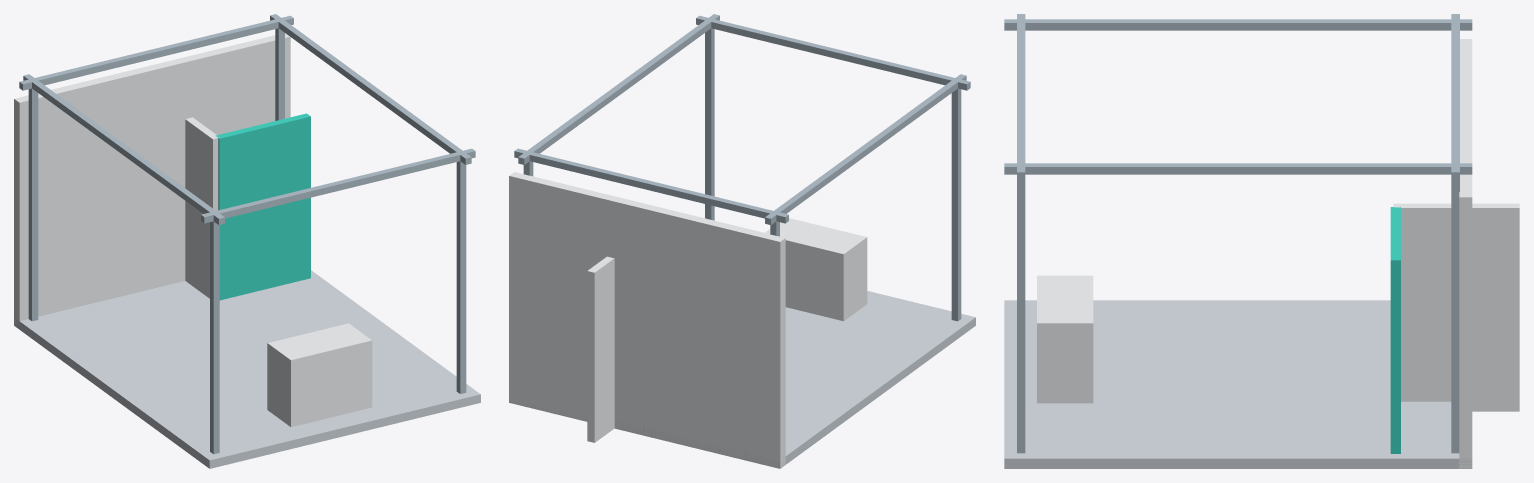
3 views of the same model, side by side, from view 1: azimuth 30°, elevation 25°; view 2: azimuth 150°, elevation 25°; view 3: azimuth 270°, elevation 25° (orthographic). The views are drawn at different scales.
Visible parts, largest first — view 1: Exhibition Booth Concept; view 2: Exhibition Booth Concept; view 3: Exhibition Booth Concept.
Boxes of the visible parts, x1,y1,x2,y2 form: Exhibition Booth Concept: [14, 14, 480, 468]; Exhibition Booth Concept: [509, 14, 975, 468]; Exhibition Booth Concept: [1004, 14, 1519, 468].
Bounding box in the file's own units: 4 × 3.49 × 5.51.
